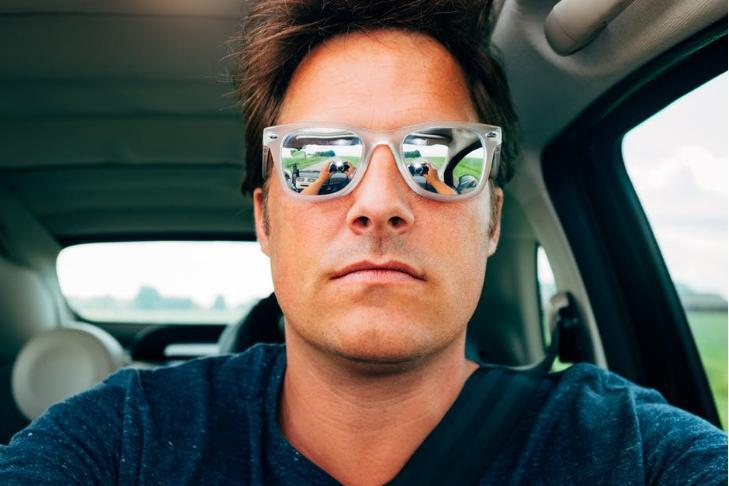face: (268, 33, 489, 356)
